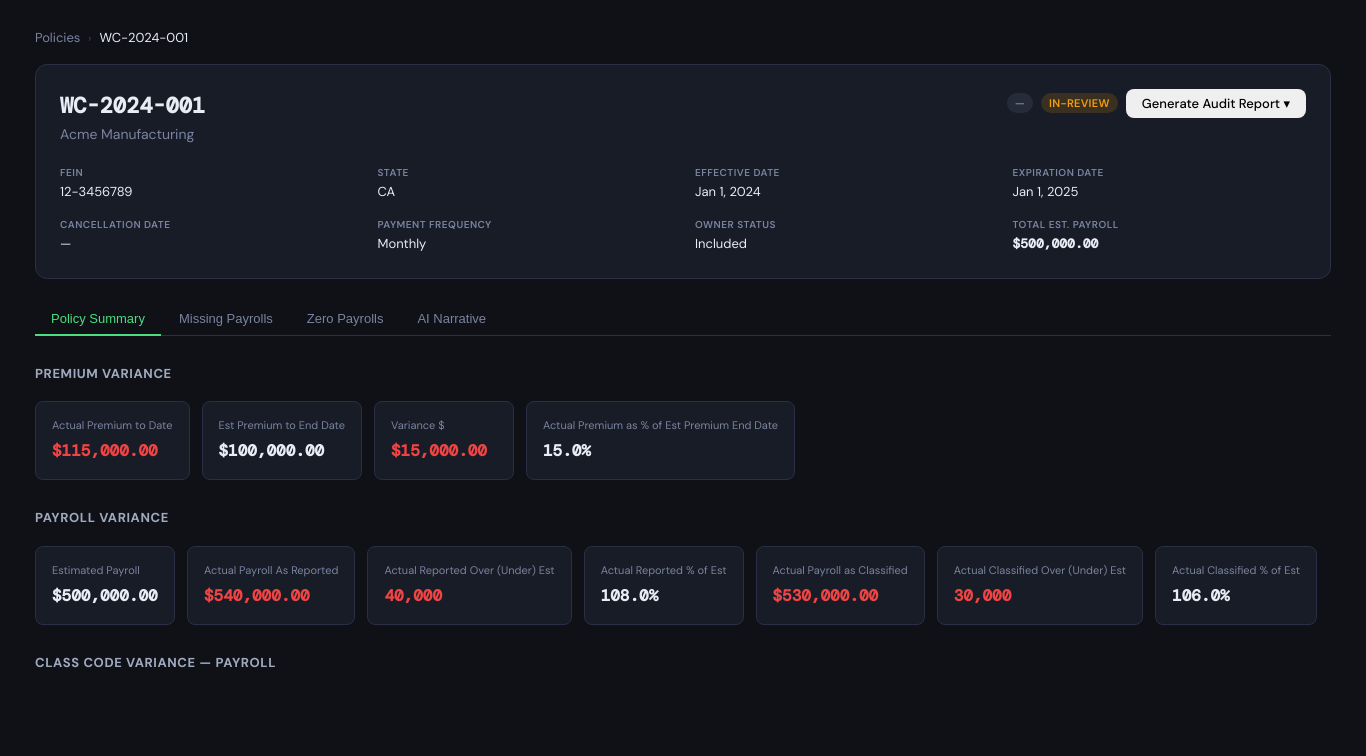
Test: PolicyDetailPage › AI Narrative tab renders placeholder when engine is on
Click the button "AI Narrative": (452, 319) [401, 302, 502, 336]
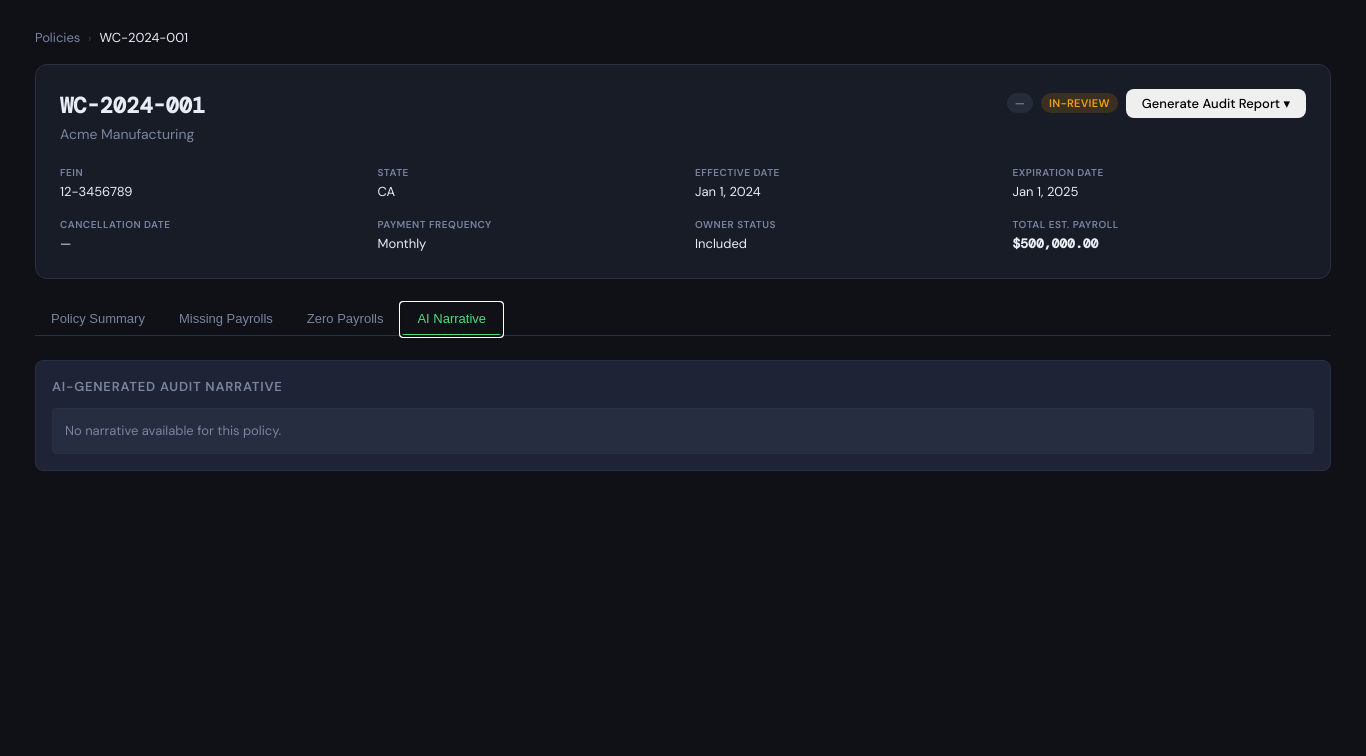
Expected: the text "No narrative available for this policy." is shown, [52, 408, 1314, 454]
